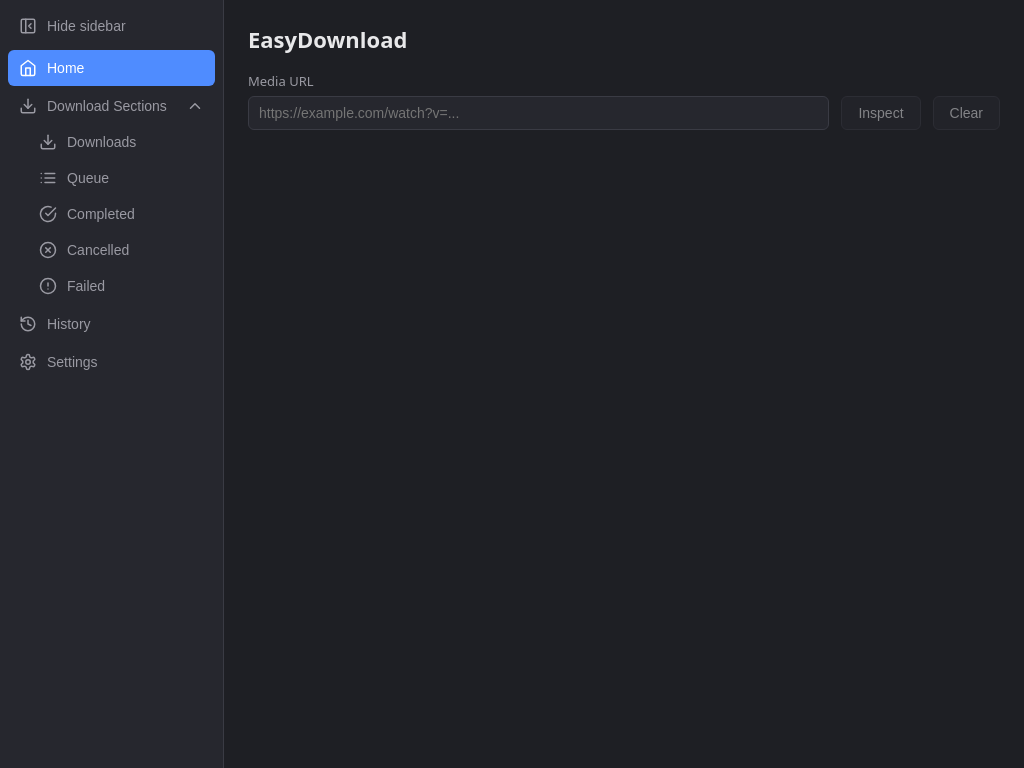
Test: App › navigates to the history section
The width and height of the screenshot is (1024, 768).
What coordinates should you click on to do the following:
click the button "History"
I would click on:
 (112, 324)
Its box is left=8, top=306, right=215, bottom=342.
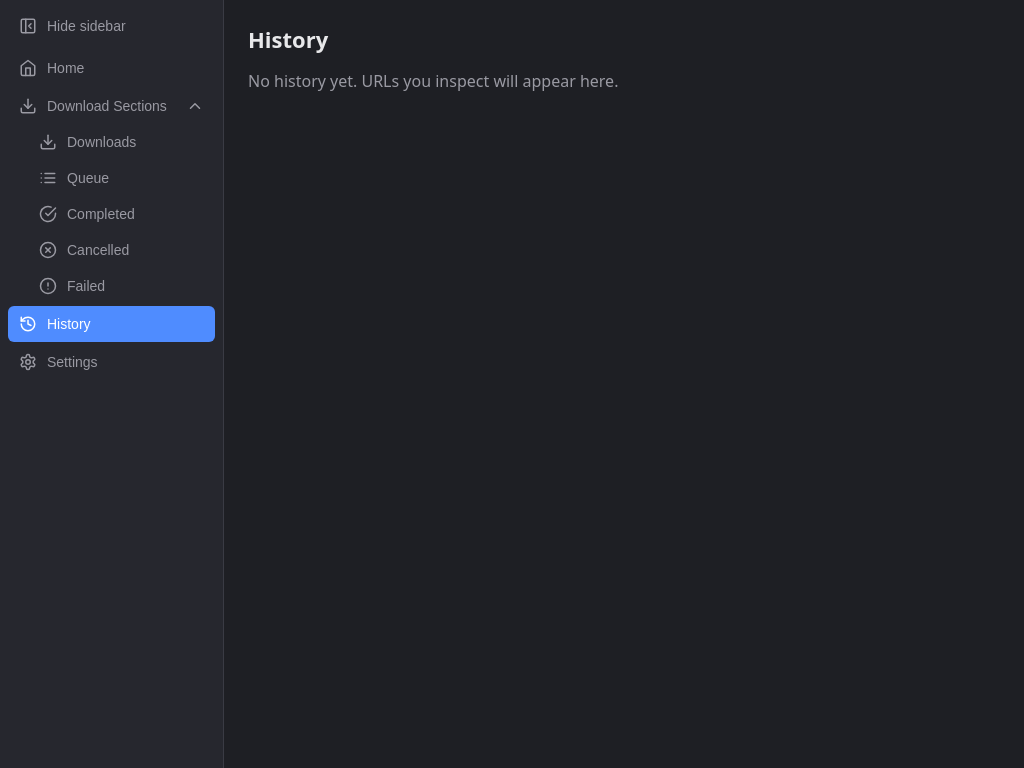
Expected: the heading "History" is shown, left=248, top=24, right=328, bottom=54
